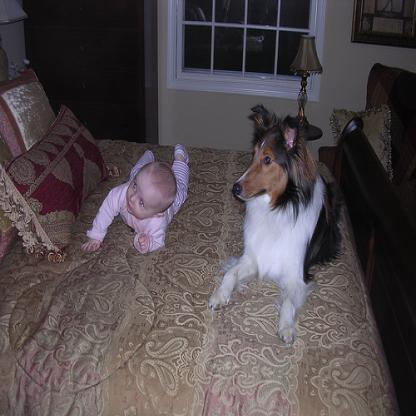Shetland_sheepdog: (208, 103, 344, 340)
